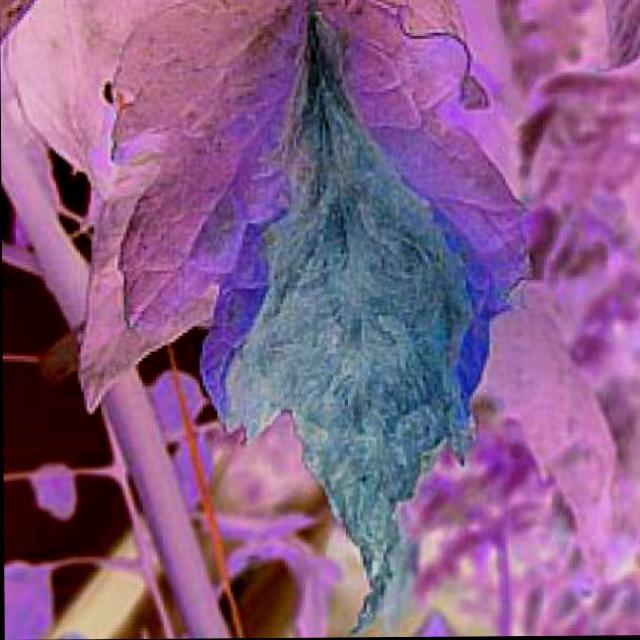Tomato mold leaf: (108, 8, 524, 638)
